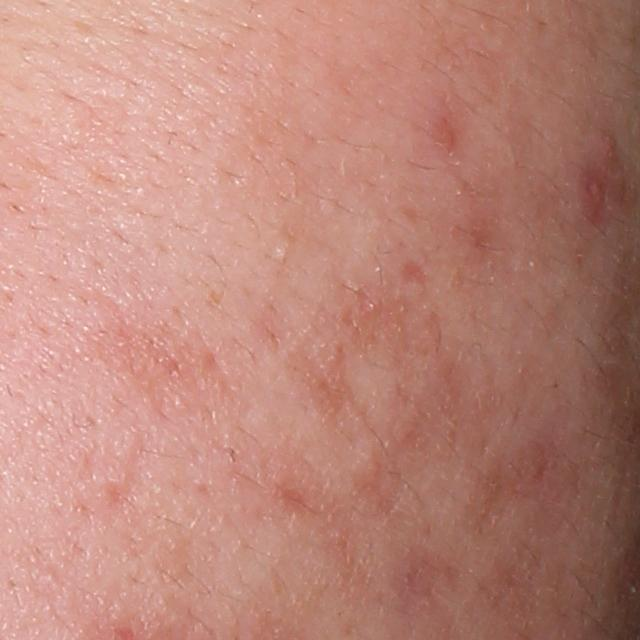atrophic_scar: (399, 259, 431, 302)
papule: (580, 172, 606, 204), (592, 129, 618, 157)
